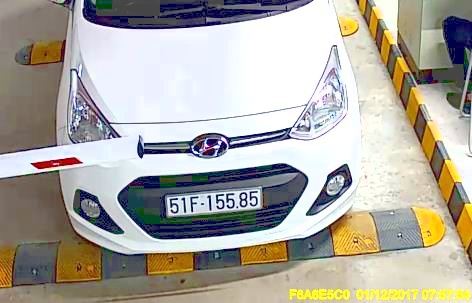plate: (163, 188, 264, 216)
